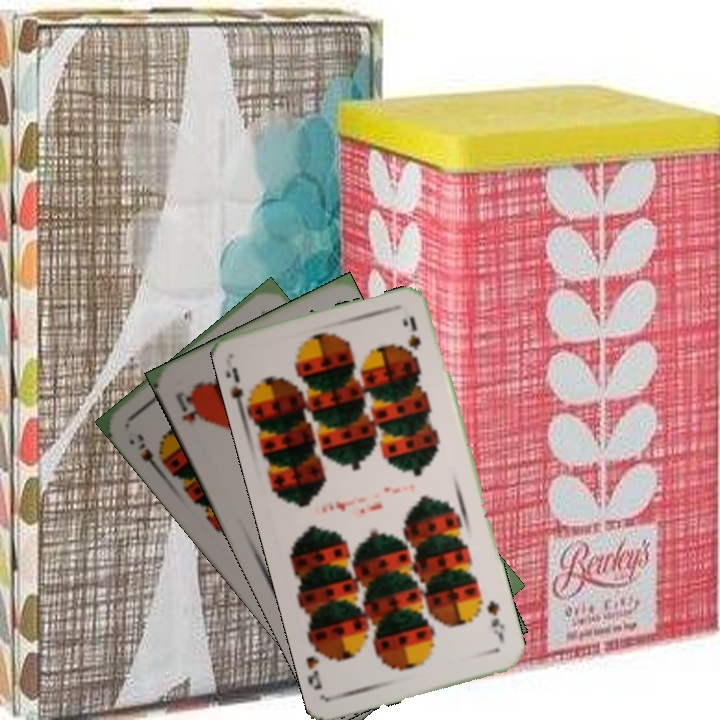HO: (172, 387, 207, 429)
S9: (133, 429, 170, 477), (227, 363, 259, 417), (483, 596, 508, 646)
